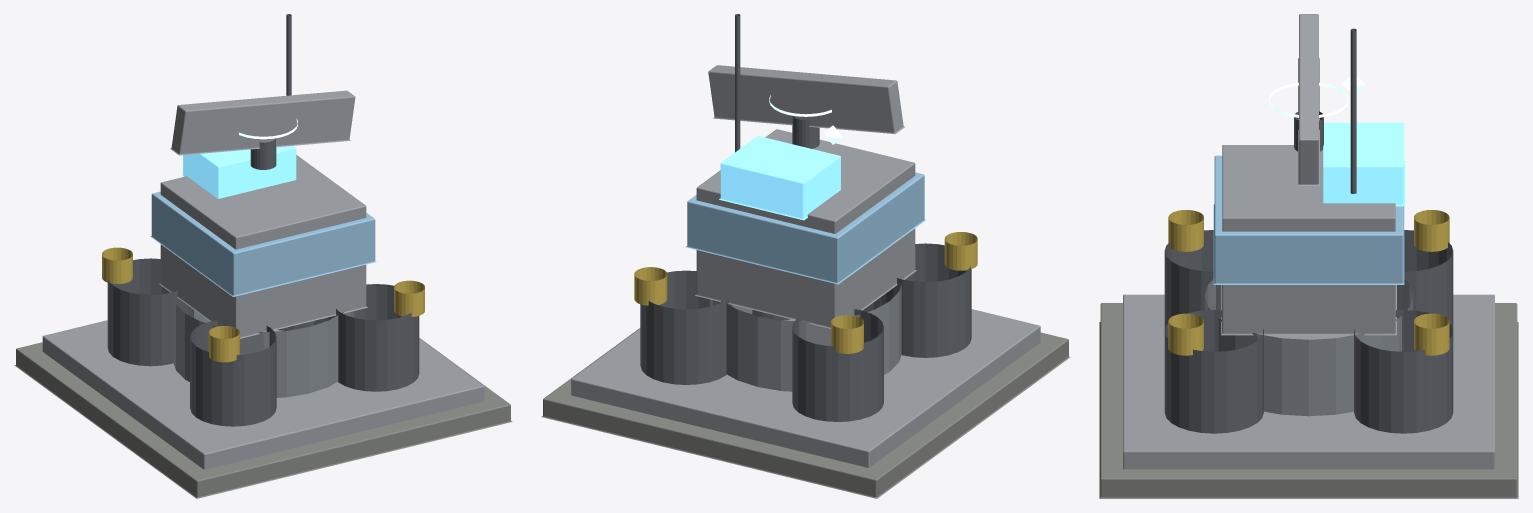
The picture shows the model from 3 angles, left to right: view 1: azimuth 30°, elevation 25°; view 2: azimuth 150°, elevation 25°; view 3: azimuth 270°, elevation 25°; orthographic projection. The views are drawn at different scales.
Visible parts, largest first — view 1: base_Static_Steel, base_Static_DarkMetal, base_Static_Concrete, base_Static_FactionPaint, RadarDish, base_Static_Armor, base_Static_Glass, base_Static_Warning; view 2: base_Static_Steel, base_Static_DarkMetal, base_Static_Concrete, base_Static_FactionPaint, RadarDish, base_Static_Glass, base_Static_Armor, base_Static_Warning; view 3: base_Static_Steel, base_Static_DarkMetal, base_Static_Concrete, base_Static_FactionPaint, base_Static_Armor, base_Static_Glass, base_Static_Warning, RadarDish.
Boxes of the visible parts, x1,y1,x2,y2 form: base_Static_Steel: (42, 155, 484, 469); base_Static_DarkMetal: (107, 14, 419, 426); base_Static_Concrete: (14, 338, 512, 498); base_Static_FactionPaint: (150, 191, 376, 296); RadarDish: (170, 90, 355, 155); base_Static_Armor: (173, 297, 354, 397); base_Static_Glass: (182, 146, 296, 198); base_Static_Warning: (102, 247, 424, 362); base_Static_Steel: (571, 129, 1040, 467); base_Static_DarkMetal: (640, 14, 971, 421); base_Static_Concrete: (541, 328, 1070, 498); base_Static_FactionPaint: (685, 172, 925, 284); RadarDish: (708, 65, 905, 134); base_Static_Glass: (719, 136, 840, 220); base_Static_Armor: (709, 284, 901, 391); base_Static_Warning: (634, 232, 977, 353); base_Static_Steel: (1123, 145, 1494, 469); base_Static_DarkMetal: (1164, 28, 1453, 433); base_Static_Concrete: (1099, 303, 1518, 498); base_Static_FactionPaint: (1213, 155, 1404, 284); base_Static_Armor: (1204, 279, 1413, 416); base_Static_Glass: (1323, 122, 1405, 206); base_Static_Warning: (1168, 210, 1449, 355); RadarDish: (1298, 14, 1319, 185).
Size of the model in its own units: 4.22 by 4.51 by 4.22.
